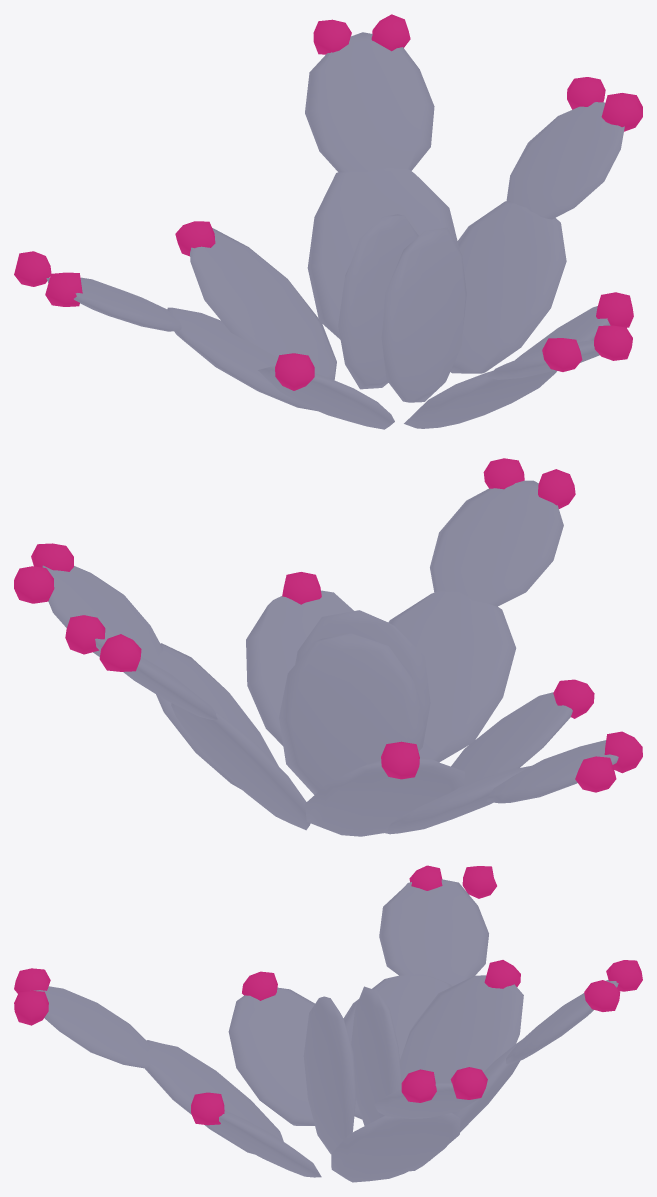
File: Blender_Beavertail_1.glb
The picture shows the model from 3 angles, top to bottom: view 1: azimuth 30°, elevation 25°; view 2: azimuth 150°, elevation 25°; view 3: azimuth 270°, elevation 25°; orthographic projection. The views are drawn at different scales.
Parts seen in each view (by area): view 1: Blender_Beavertail_1; view 2: Blender_Beavertail_1; view 3: Blender_Beavertail_1.
Part boxes in pixels (bbox=[...]): Blender_Beavertail_1: bbox=[14, 14, 642, 429]; Blender_Beavertail_1: bbox=[14, 458, 642, 836]; Blender_Beavertail_1: bbox=[14, 865, 642, 1182].
Size of the model in its own units: 1.02 by 0.4093 by 1.02.
